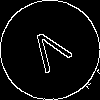V: (25, 25, 79, 82)
